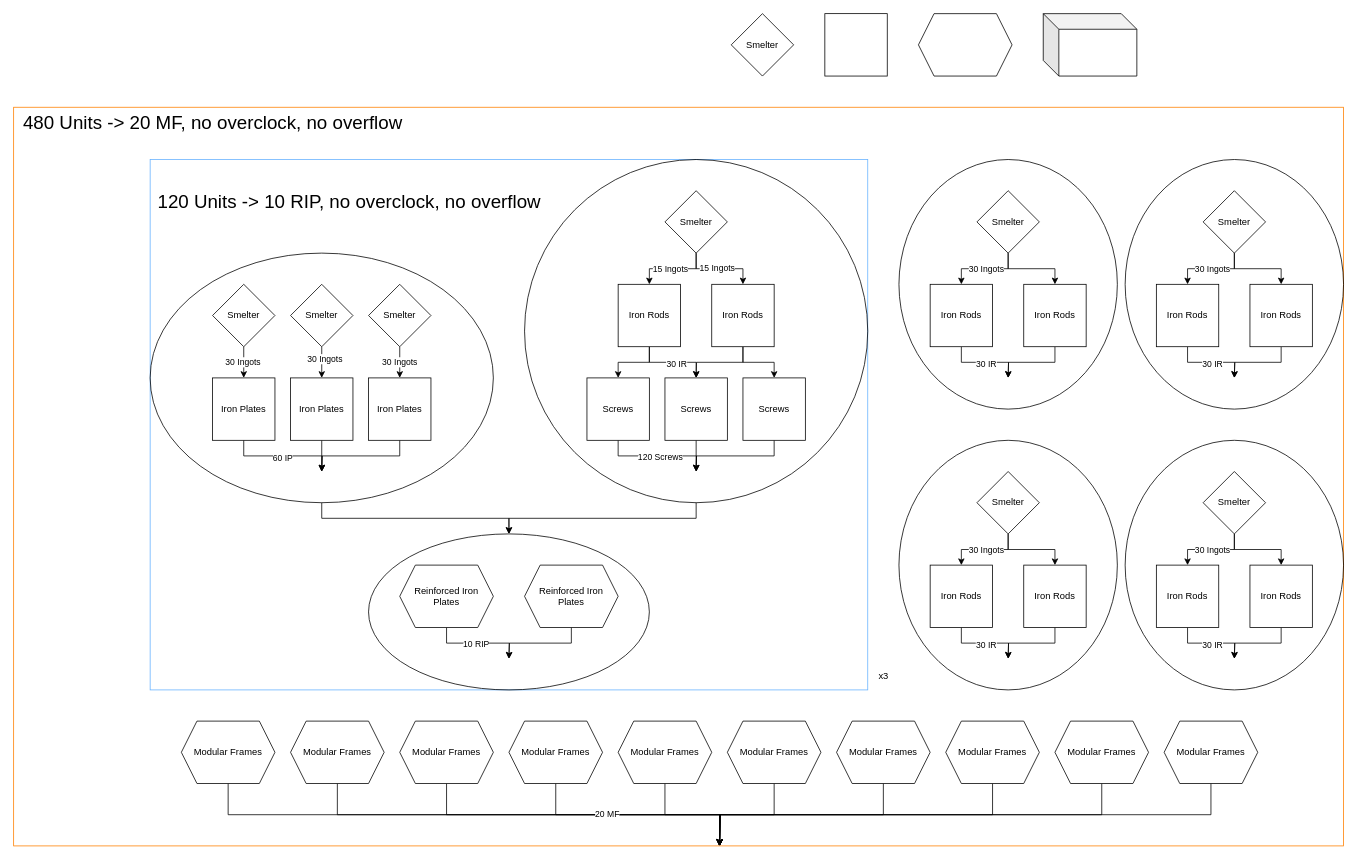
This 1357x866 diagram has some shape labels left out. Here are the shapes that lost their labels. From the top down, the centre of each, then its label:
At point 855,44: "Constructor".
At point 965,44: "Assembler".
At point 1089,44: "Manufacturer".
